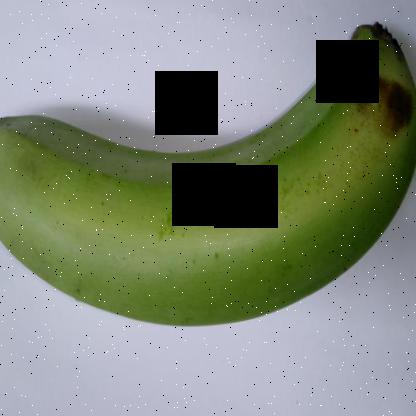freshunripe: (1, 12, 415, 354)
